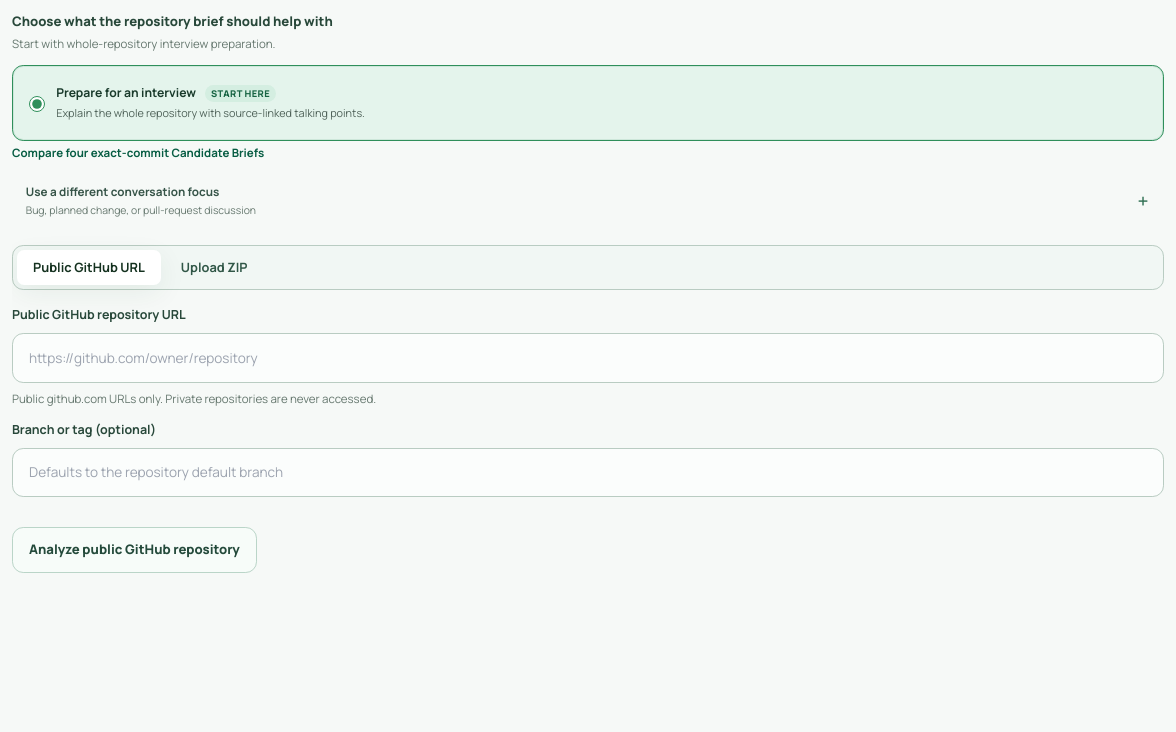
Test: InputForm › shows validation error when submitting empty ZIP
Step 1. Click the tab "Upload ZIP" → point(214, 268), box [165,250,264,285]
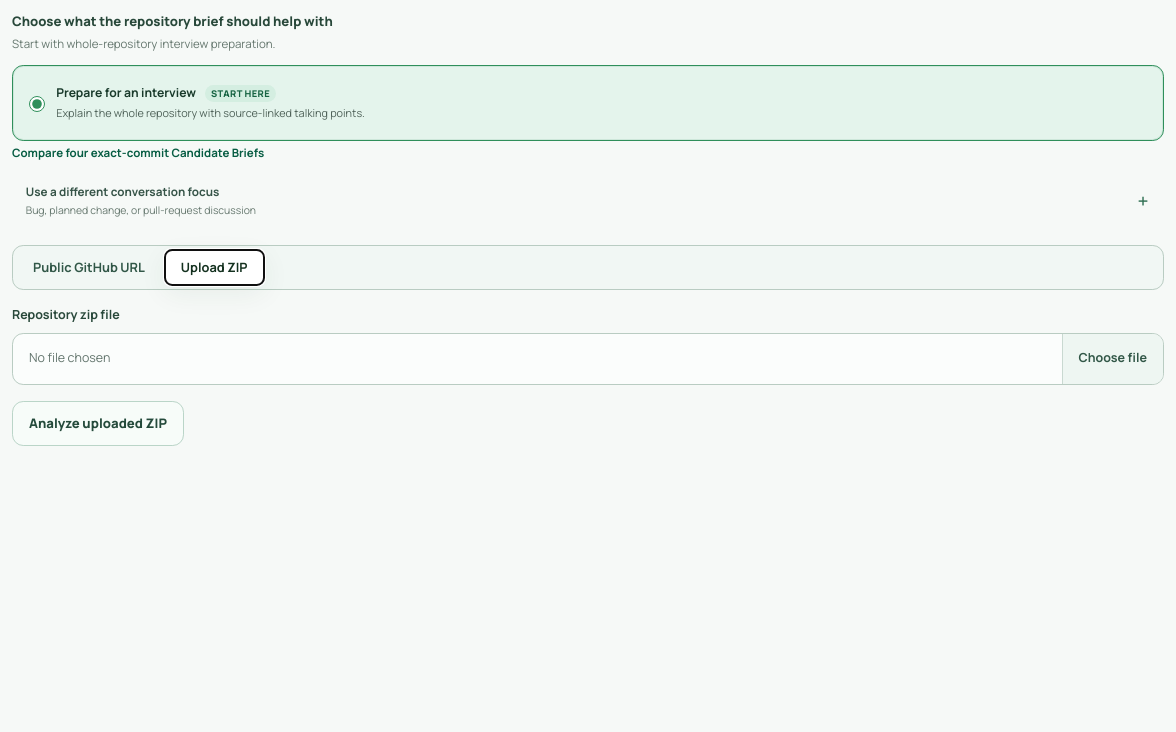
Step 2. Click the button "Analyze uploaded ZIP" → point(98, 423), box [12,400,184,446]
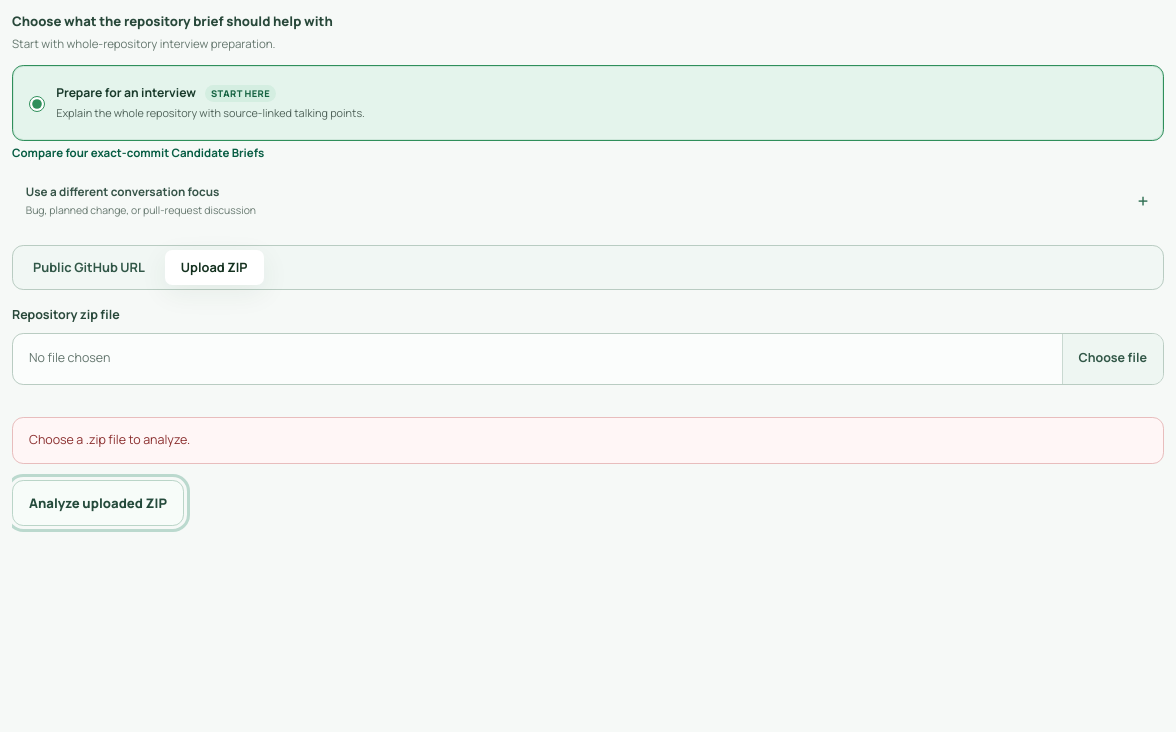
Result: the message shows "zip" at [12,416,1164,464]
